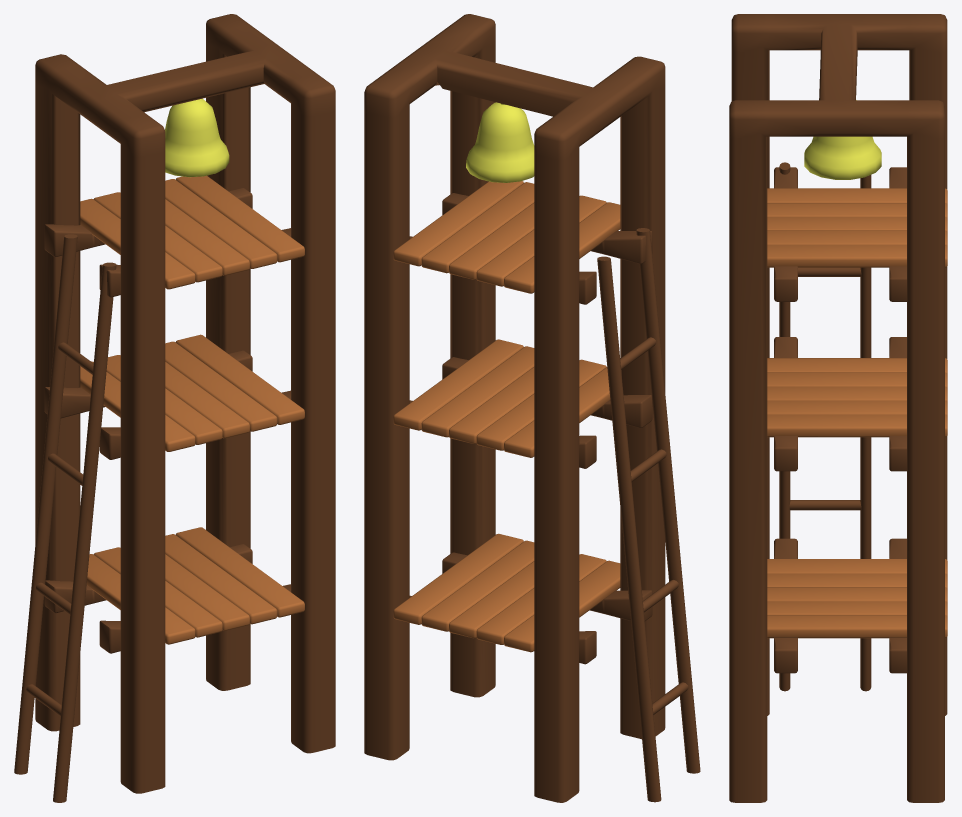
File: bell tower level 1.fbx
3 renders of one model, left to right at view 1: azimuth 30°, elevation 25°; view 2: azimuth 150°, elevation 25°; view 3: azimuth 270°, elevation 25°, orthographic. The views are drawn at different scales.
Parts seen in each view (by area): view 1: Cylinder.303, Cube.036; view 2: Cylinder.303, Cube.036; view 3: Cylinder.303, Cube.036.
Boxes of the visible parts, bbox=[...] form: Cylinder.303: bbox=[14, 14, 335, 802]; Cube.036: bbox=[165, 98, 229, 177]; Cylinder.303: bbox=[364, 14, 700, 802]; Cube.036: bbox=[466, 102, 534, 182]; Cylinder.303: bbox=[729, 14, 947, 802]; Cube.036: bbox=[804, 100, 881, 179].
Size of the model in its own units: 1822 by 4541 by 1280.
